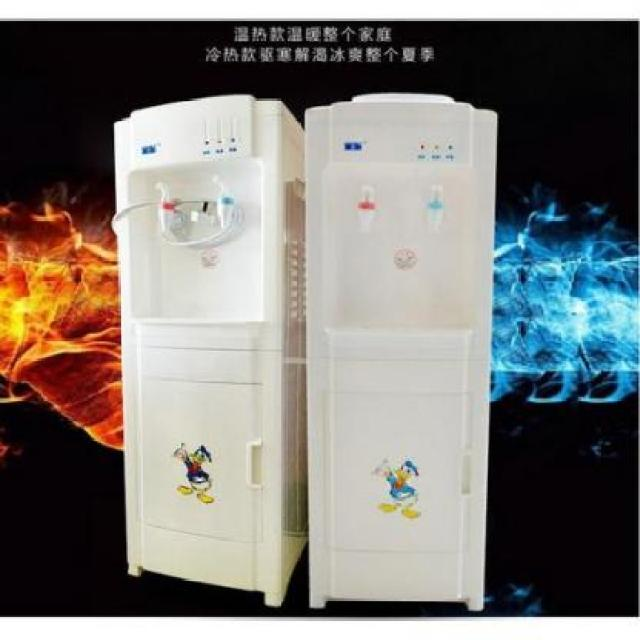cooler: (306, 91, 502, 612), (112, 89, 308, 607)
